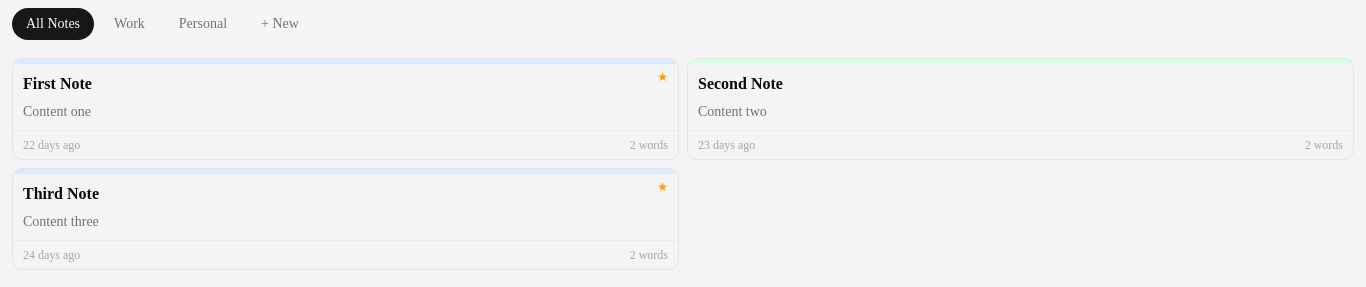
Test: NoteCardGrid › filters notes when a folder is selected
The width and height of the screenshot is (1366, 287).
Step 1. Click the text "Work" → (130, 24), box left=100, top=8, right=159, bottom=40
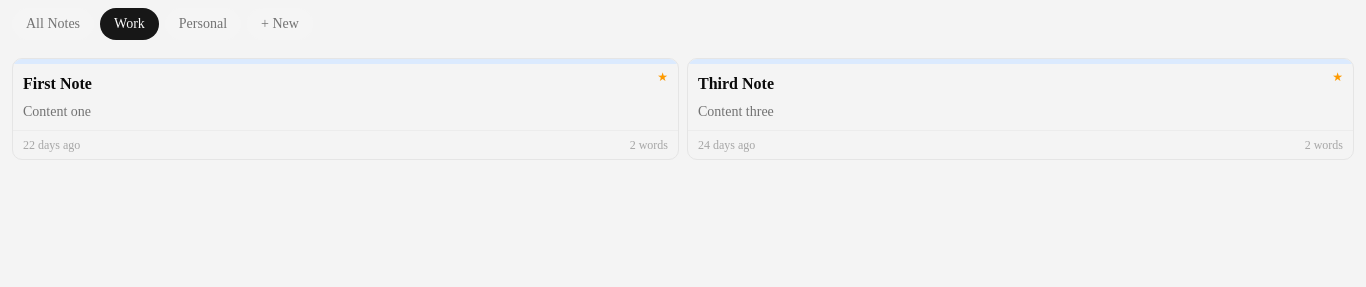
Expected: the text "First Note" is shown, left=23, top=75, right=92, bottom=92
Expected: the text "Second Note" is gone
